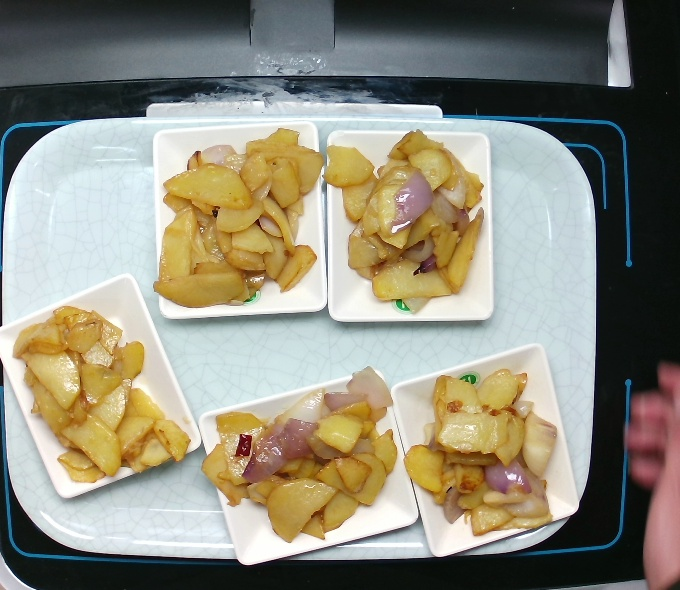wcq-TuDouPian: (203, 363, 401, 542), (10, 304, 198, 486), (154, 127, 320, 308), (308, 133, 474, 314), (404, 369, 565, 540)
